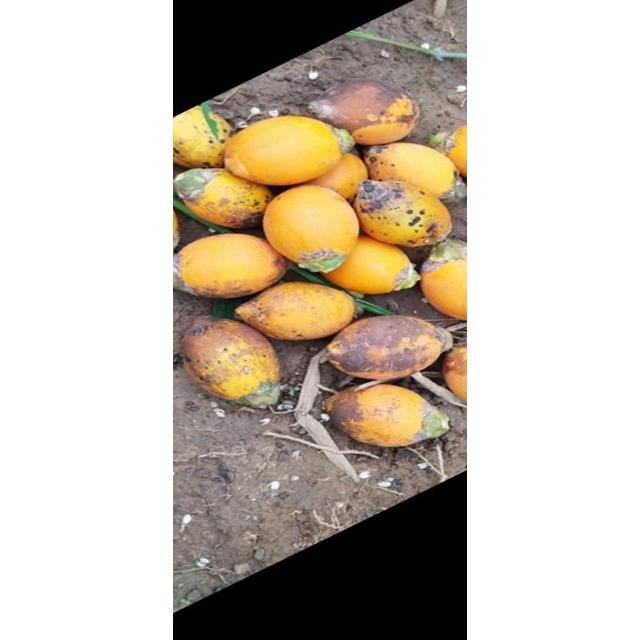good: (180, 317, 284, 407), (223, 116, 343, 186), (262, 186, 360, 270), (324, 316, 451, 380), (322, 384, 450, 446), (176, 235, 290, 299), (306, 80, 419, 144), (236, 282, 356, 340), (353, 180, 452, 248), (174, 167, 274, 230), (317, 235, 417, 295), (362, 144, 462, 202), (173, 104, 234, 170), (420, 238, 464, 318), (174, 167, 218, 201), (174, 253, 206, 297), (329, 125, 356, 153), (173, 201, 180, 251)
